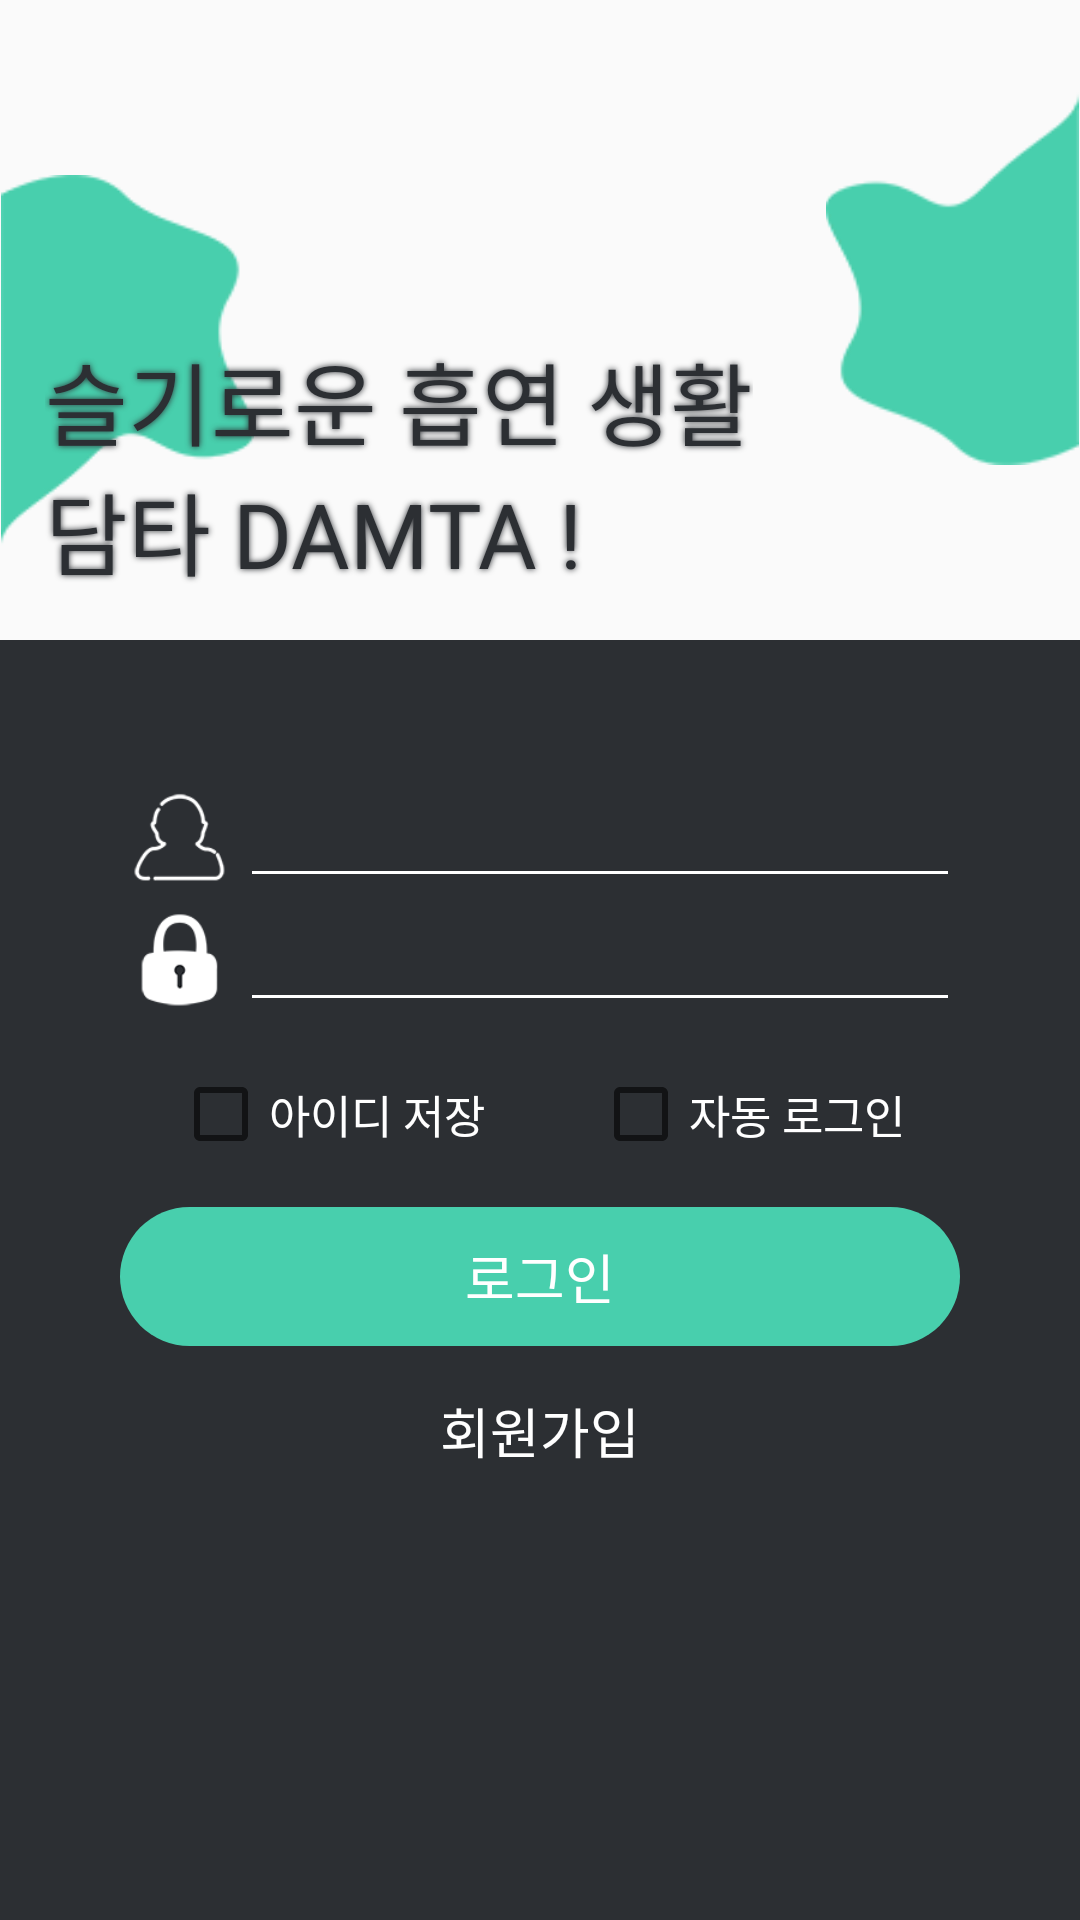

Screen size 1080x1920. Icon name, then its box in pixels as bbox=[x1, y1, x2, y2]:
login id: bbox=[134, 794, 225, 881]
login pw: bbox=[141, 914, 218, 1006]
